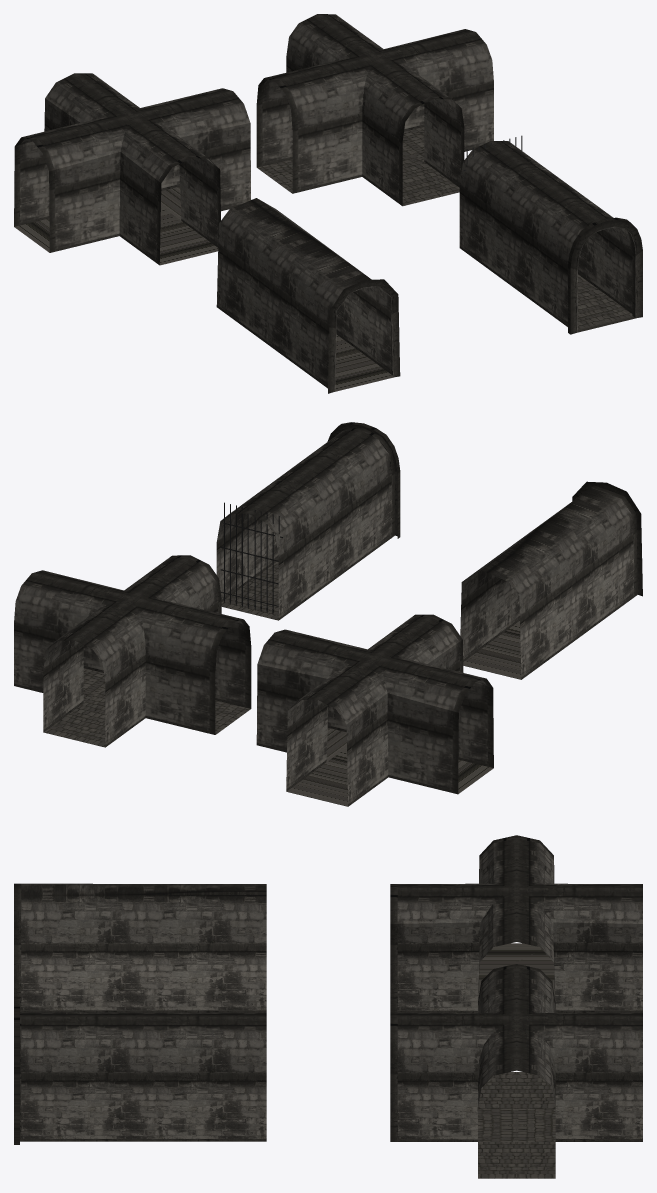
Rendered from Corridors.fbx.
3 views of the same model, one above another, from view 1: azimuth 30°, elevation 25°; view 2: azimuth 150°, elevation 25°; view 3: azimuth 270°, elevation 25° (orthographic). The views are drawn at different scales.
Visible parts, largest first — view 1: CorridorCross.LOD.000, CorridorCross.LOD.001, CorridorSingle.LOD.001, CorridorSingle.LOD.002; view 2: CorridorCross.LOD.000, CorridorCross.LOD.001, CorridorSingle.LOD.002, CorridorSingle.LOD.001, Gate; view 3: CorridorCross.LOD.000, CorridorSingle.LOD.001, CorridorCross.LOD.001, CorridorSingle.LOD.002.
Boxes of the visible parts, box(x1,y1,x2,y2) form: CorridorCross.LOD.000: box(256, 14, 493, 206); CorridorCross.LOD.001: box(14, 73, 251, 265); CorridorSingle.LOD.001: box(459, 141, 642, 334); CorridorSingle.LOD.002: box(216, 198, 400, 393); CorridorCross.LOD.000: box(14, 555, 251, 747); CorridorCross.LOD.001: box(256, 614, 493, 806); CorridorSingle.LOD.002: box(460, 481, 642, 679); CorridorSingle.LOD.001: box(216, 422, 400, 620); Gate: box(220, 502, 282, 614); CorridorCross.LOD.000: box(390, 964, 642, 1178); CorridorSingle.LOD.001: box(14, 1006, 266, 1144); CorridorCross.LOD.001: box(390, 835, 642, 1012); CorridorSingle.LOD.002: box(14, 883, 266, 1012).
Size of the model in its own units: 8600 by 1947 by 9712.
